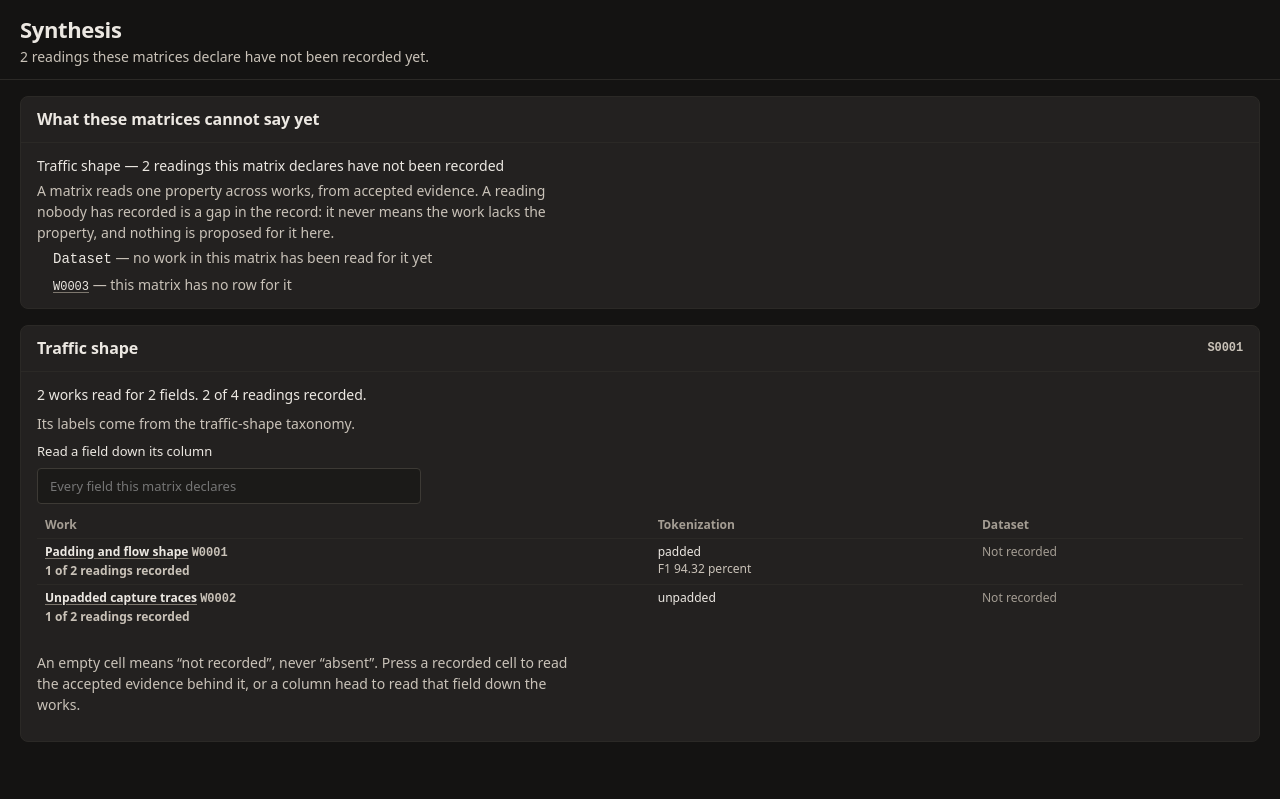
it: the synthesis page › opens a recorded cell onto the accepted span it rests on, read out rather than as JSON
Expected: the text "F1 94.32 percent" is shown, [658,560,751,577]
Click the text "padded" at (679, 551), box [658,543,701,560]
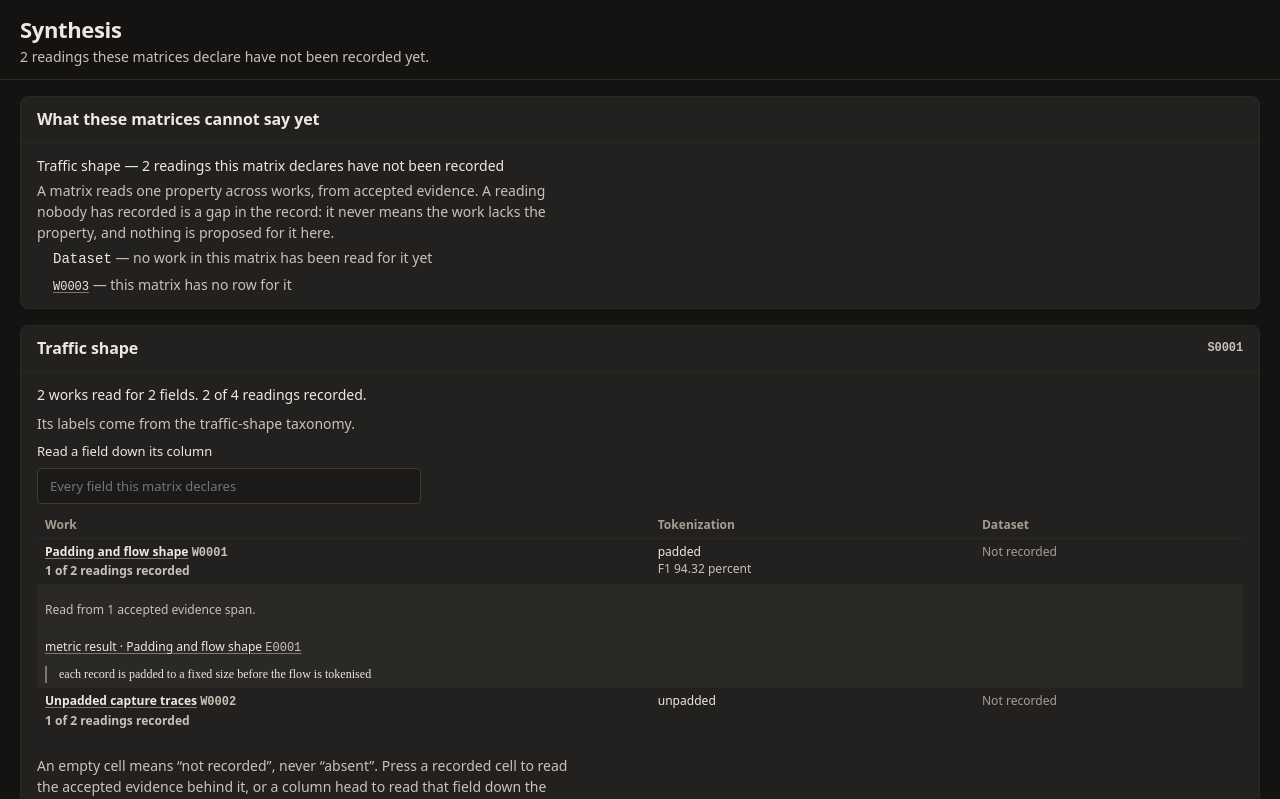
Now the text "Read from 1 accepted evidence span." is shown, box [45,601,255,618]
Now the text "each record is padded to a fixed size before the flow is tokenised" is shown, box [45,666,514,683]
